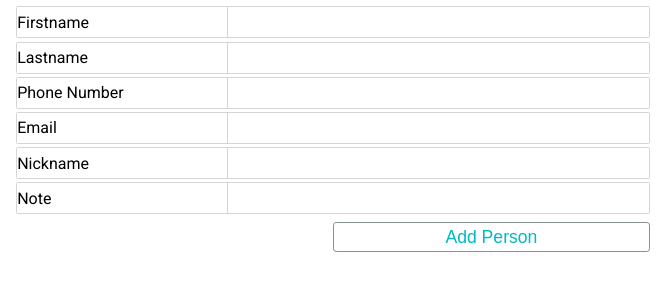
Test: <CreatePerson /> › should get fetch error
Step 1. Click the button → point(491, 237), box [333,222,650,252]
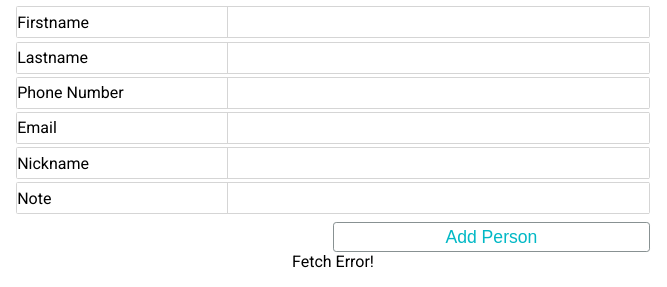
Now the text "Fetch Error!" is shown, box [292,252,374,271]
